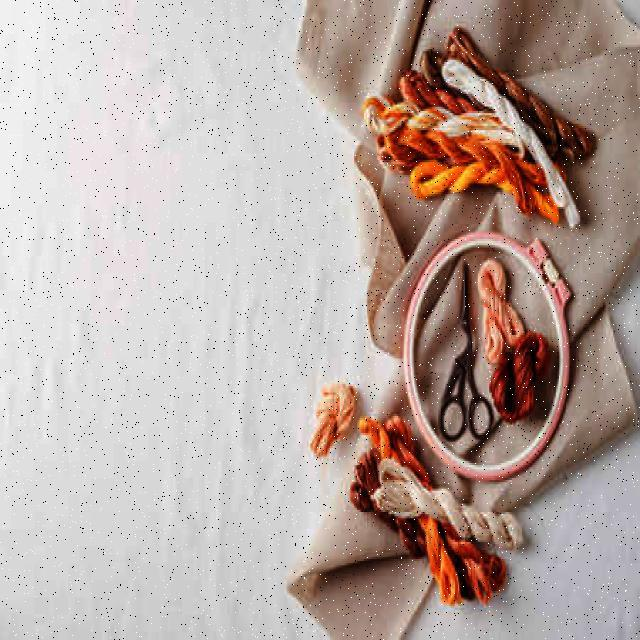scissors: (437, 250, 497, 444)
